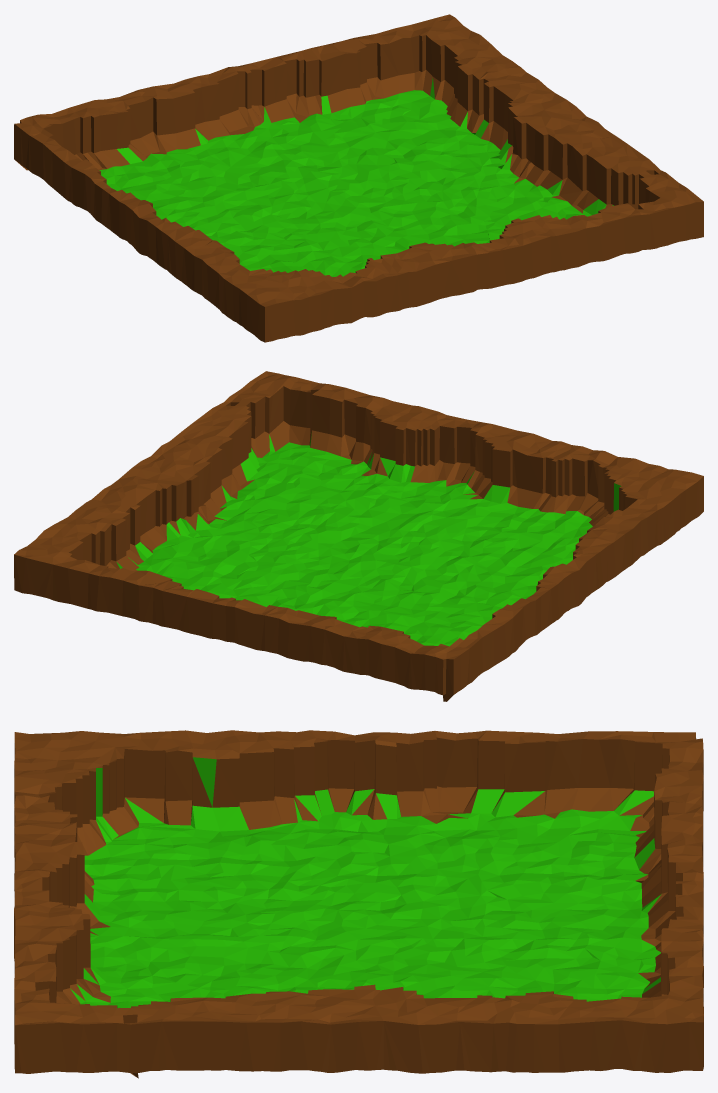
The model's file is game_livello_2.fbx.
3 renders of one model, top to bottom at view 1: azimuth 30°, elevation 25°; view 2: azimuth 150°, elevation 25°; view 3: azimuth 270°, elevation 25°, orthographic. The views are drawn at different scales.
Visible parts, largest first — view 1: Plane; view 2: Plane; view 3: Plane.
Boxes of the visible parts, box(x1,y1,x2,y2) form: Plane: box(14, 14, 703, 342); Plane: box(14, 371, 703, 701); Plane: box(14, 730, 703, 1078).
Size of the model in its own units: 12718 by 1478 by 12708.
